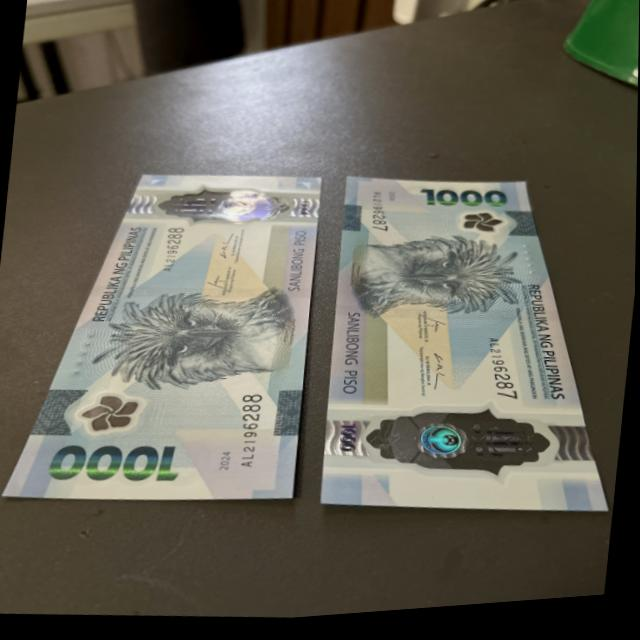clear_window: (342, 396, 555, 497), (156, 174, 292, 239)
eagle: (96, 284, 297, 400), (344, 236, 528, 329)
sampaguita: (81, 390, 146, 440), (461, 213, 501, 246)
serial_number: (470, 333, 534, 427), (223, 391, 276, 485), (354, 187, 398, 251), (158, 223, 195, 281)
value: (49, 437, 182, 494)
